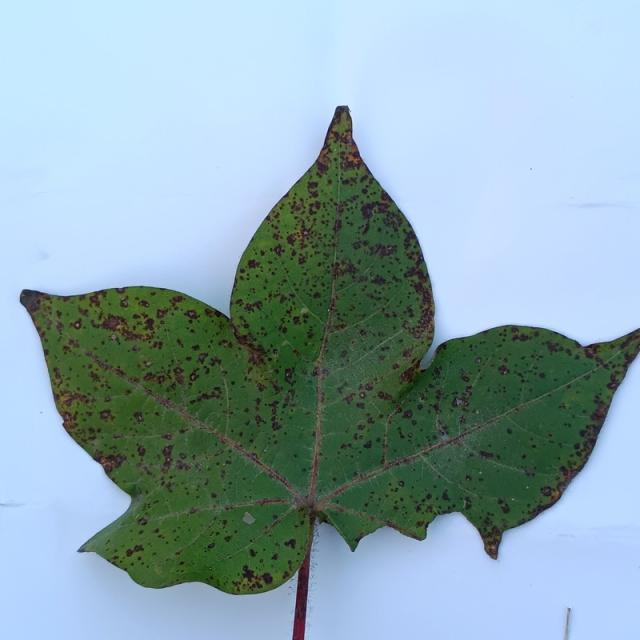Bacterial_Blight: (329, 239, 403, 299), (406, 280, 435, 361), (356, 197, 393, 236), (613, 327, 640, 360), (59, 391, 90, 410), (97, 453, 125, 474), (142, 369, 172, 388), (100, 314, 127, 333), (358, 374, 380, 397), (332, 259, 357, 279), (508, 327, 536, 343), (341, 151, 363, 170), (196, 388, 222, 403), (360, 201, 380, 219), (337, 437, 355, 456), (589, 404, 608, 422), (372, 244, 396, 258), (433, 341, 451, 357), (400, 367, 416, 383), (243, 300, 262, 313), (126, 544, 143, 558), (241, 566, 255, 580), (308, 201, 321, 215), (242, 511, 256, 524), (284, 367, 294, 383), (478, 449, 494, 459), (499, 501, 511, 514), (143, 318, 155, 331), (162, 444, 173, 458), (454, 396, 468, 407), (342, 393, 356, 404), (284, 538, 296, 549), (156, 308, 168, 319), (286, 234, 297, 246), (549, 488, 560, 500), (246, 259, 259, 269), (540, 486, 552, 496), (497, 365, 509, 375), (441, 489, 451, 501), (99, 410, 111, 420), (262, 573, 272, 585), (377, 391, 390, 400), (396, 478, 407, 488), (133, 411, 143, 422), (271, 420, 282, 430), (460, 372, 471, 382), (307, 181, 318, 191), (137, 445, 146, 457), (333, 219, 342, 231), (403, 409, 413, 419), (198, 353, 208, 363), (274, 245, 284, 255), (61, 412, 71, 422), (137, 517, 148, 526), (463, 498, 472, 509), (138, 300, 150, 308), (187, 310, 197, 319), (363, 440, 372, 449), (250, 452, 259, 461), (120, 298, 129, 307), (488, 543, 497, 552), (355, 401, 365, 409), (115, 287, 126, 294), (249, 548, 257, 557), (459, 415, 467, 424), (441, 433, 449, 441), (300, 306, 308, 314), (207, 542, 215, 549), (179, 452, 187, 459), (357, 423, 365, 430), (539, 371, 546, 379), (126, 549, 133, 557), (190, 373, 197, 381), (74, 321, 81, 329), (403, 320, 410, 328), (358, 530, 365, 538), (465, 474, 472, 481), (506, 428, 513, 435), (322, 368, 329, 375), (475, 357, 482, 364), (145, 360, 152, 367), (135, 516, 142, 523), (211, 492, 218, 498), (104, 396, 111, 402), (221, 370, 228, 376), (407, 432, 413, 438), (290, 406, 295, 413), (360, 392, 365, 398), (121, 297, 126, 302), (303, 231, 308, 235), (208, 566, 213, 570), (263, 449, 267, 453), (511, 497, 515, 501), (479, 471, 483, 474), (333, 149, 337, 152), (326, 309, 330, 312), (476, 410, 479, 414), (526, 486, 529, 489), (40, 411, 43, 414), (530, 167, 532, 170)
Cotton: (20, 107, 639, 637)
